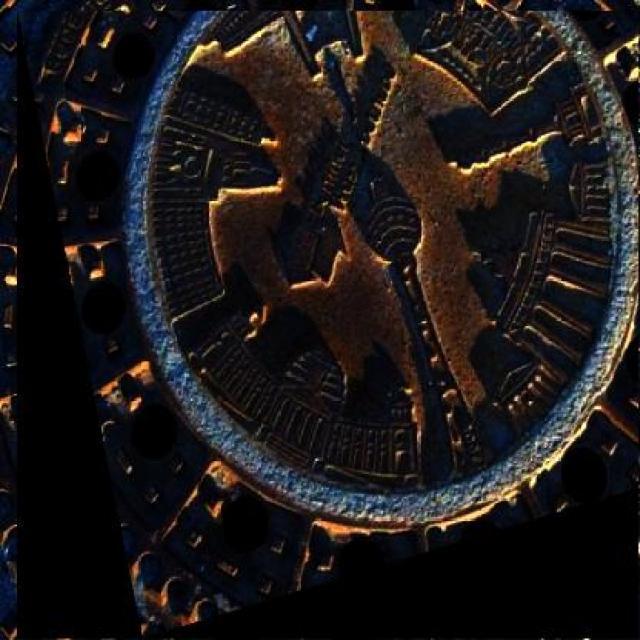Manhole: (16, 11, 638, 638)
